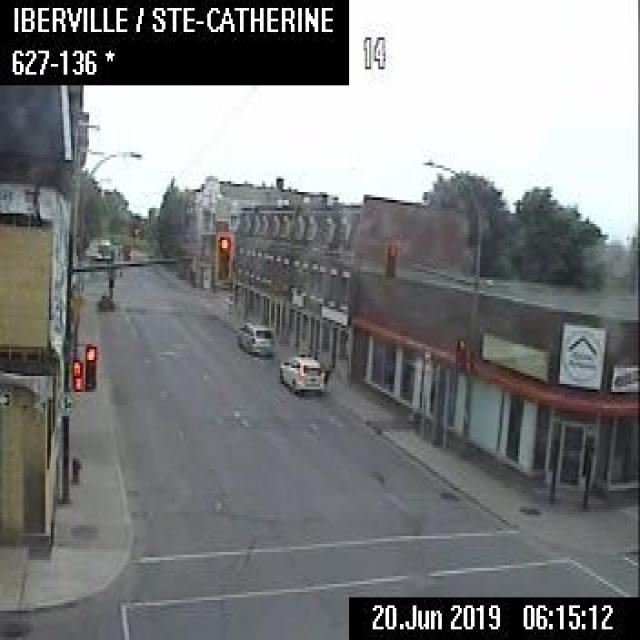bus: (96, 238, 110, 258)
vehicle: (278, 352, 324, 393), (236, 318, 274, 354)
